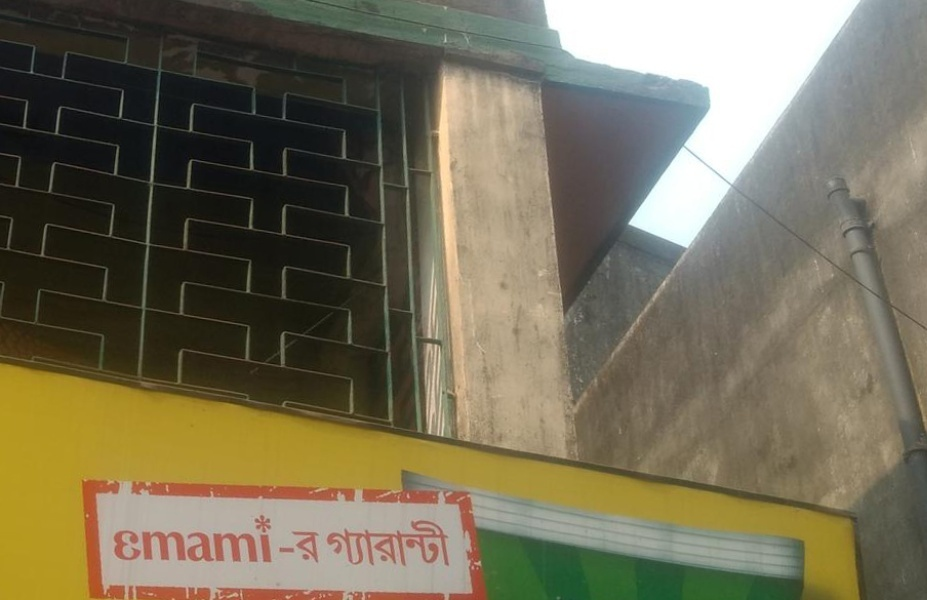text: (113, 509, 128, 565), (129, 509, 144, 565), (145, 509, 160, 565), (161, 509, 176, 565), (177, 509, 192, 565), (193, 509, 208, 565), (209, 509, 224, 565), (225, 509, 240, 565), (241, 509, 256, 565), (257, 509, 272, 565), (337, 515, 352, 568), (353, 515, 368, 568), (369, 515, 384, 568), (385, 515, 400, 568), (401, 515, 416, 568), (417, 515, 432, 568), (433, 515, 448, 568), (326, 515, 336, 568), (289, 531, 304, 565), (305, 531, 320, 565), (278, 531, 288, 565), (273, 509, 278, 565), (449, 515, 452, 568)
